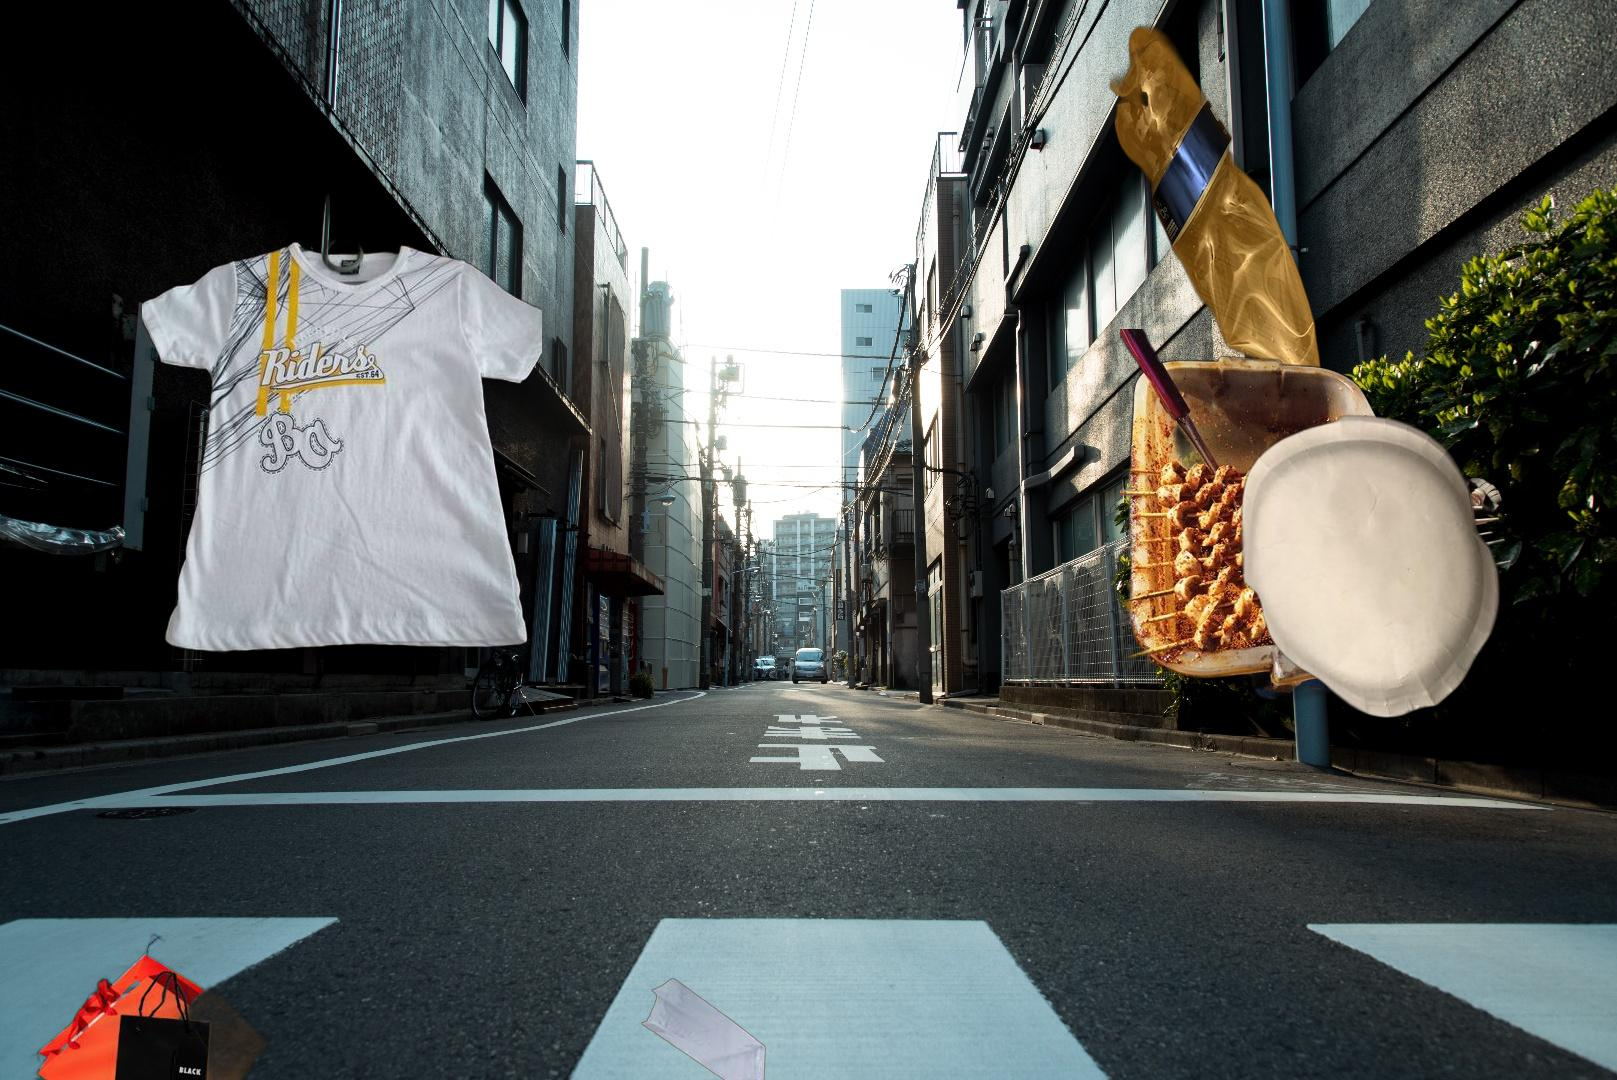biological: (1121, 329, 1519, 705)
clothes: (142, 234, 542, 659)
paper: (1237, 413, 1505, 722)
paper-bag: (22, 917, 293, 1080)
plastic-bag: (639, 975, 768, 1080)
plastic-bottles: (1105, 11, 1428, 430)
